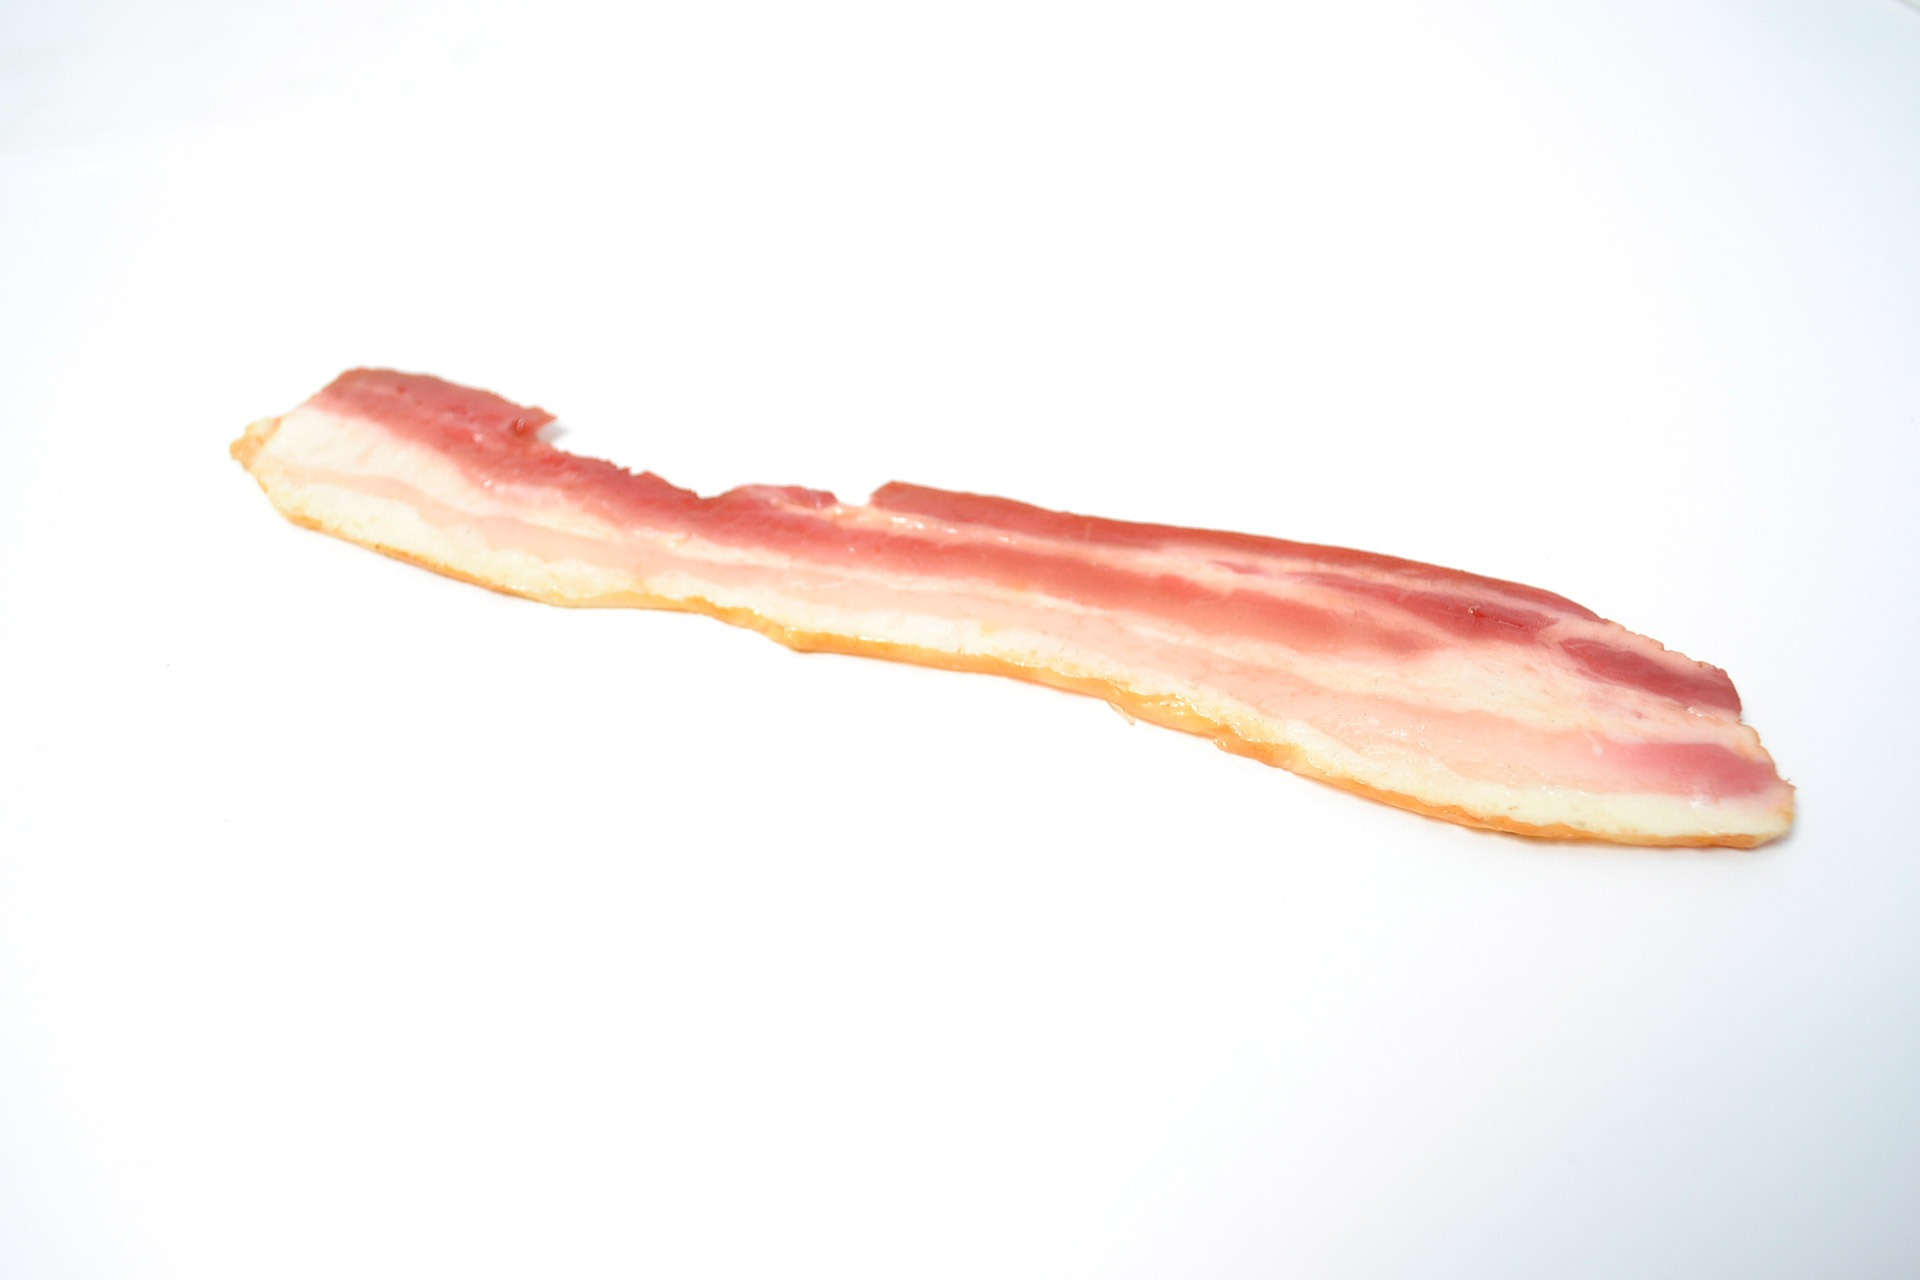bacon: (207, 267, 1727, 981)
